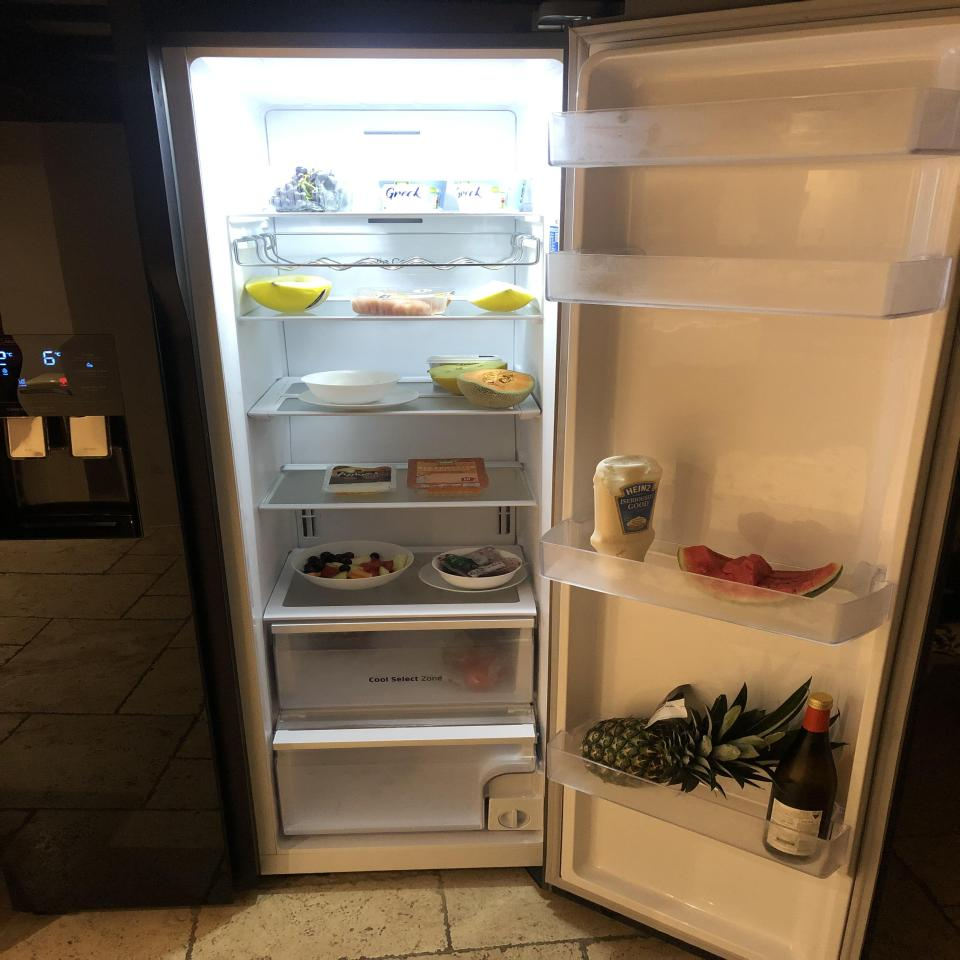Carne pollo: (348, 287, 456, 317)
Queso: (405, 458, 489, 496)
